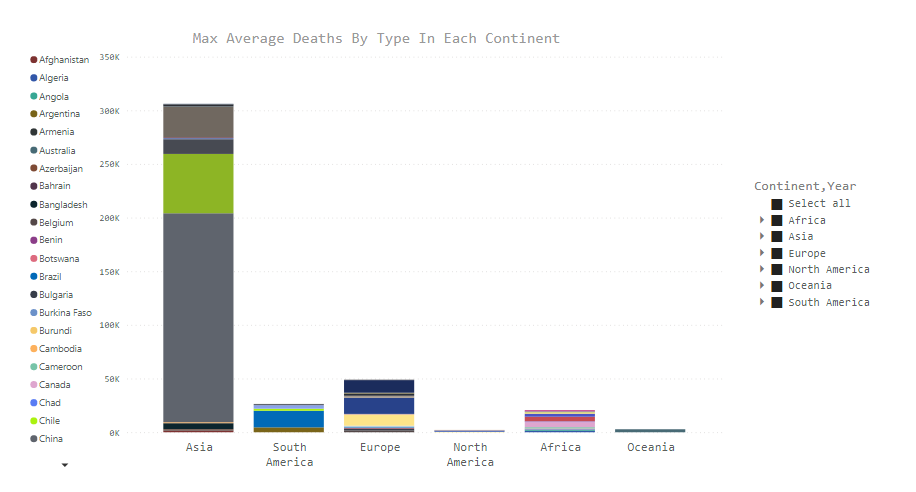

The page's visual inventory and layout, read from the dashboard file:
{"tool":"powerbi","page":{"name":"Measure Chart","canvas":[1280,720],"ordinal":3},"visuals":[{"type":"columnChart","title":"Max Average Deaths By Type In Each Continent","fields":{"Y":["age_editied.Max of Average Deaths max per continent.continent"],"Category":["age_editied.continent_1.continent"],"Series":["age_editied.Country"]},"box":[36.1,60.6,984,624.8],"z":0},{"type":"slicer","fields":{"Values":["age_editied.continent_1.continent","age_editied.Year"]},"box":[1046.1,264,203.4,212.1],"z":1000}]}

Visuals, with their boxes on the page's 1280x720 design canvas (x1, y1, x2, y2). These are canvas units, not pixel positions in the 916x492 screenshot, which may show the page scaled, cropped or inside an application window:
"Max Average Deaths By Type In Each Continent" columnChart: detection(36, 61, 1020, 685)
slicer - age_editied.continent_1.continent x age_editied.Year: detection(1046, 264, 1250, 476)
